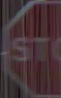Stop: (8, 10, 60, 76)
